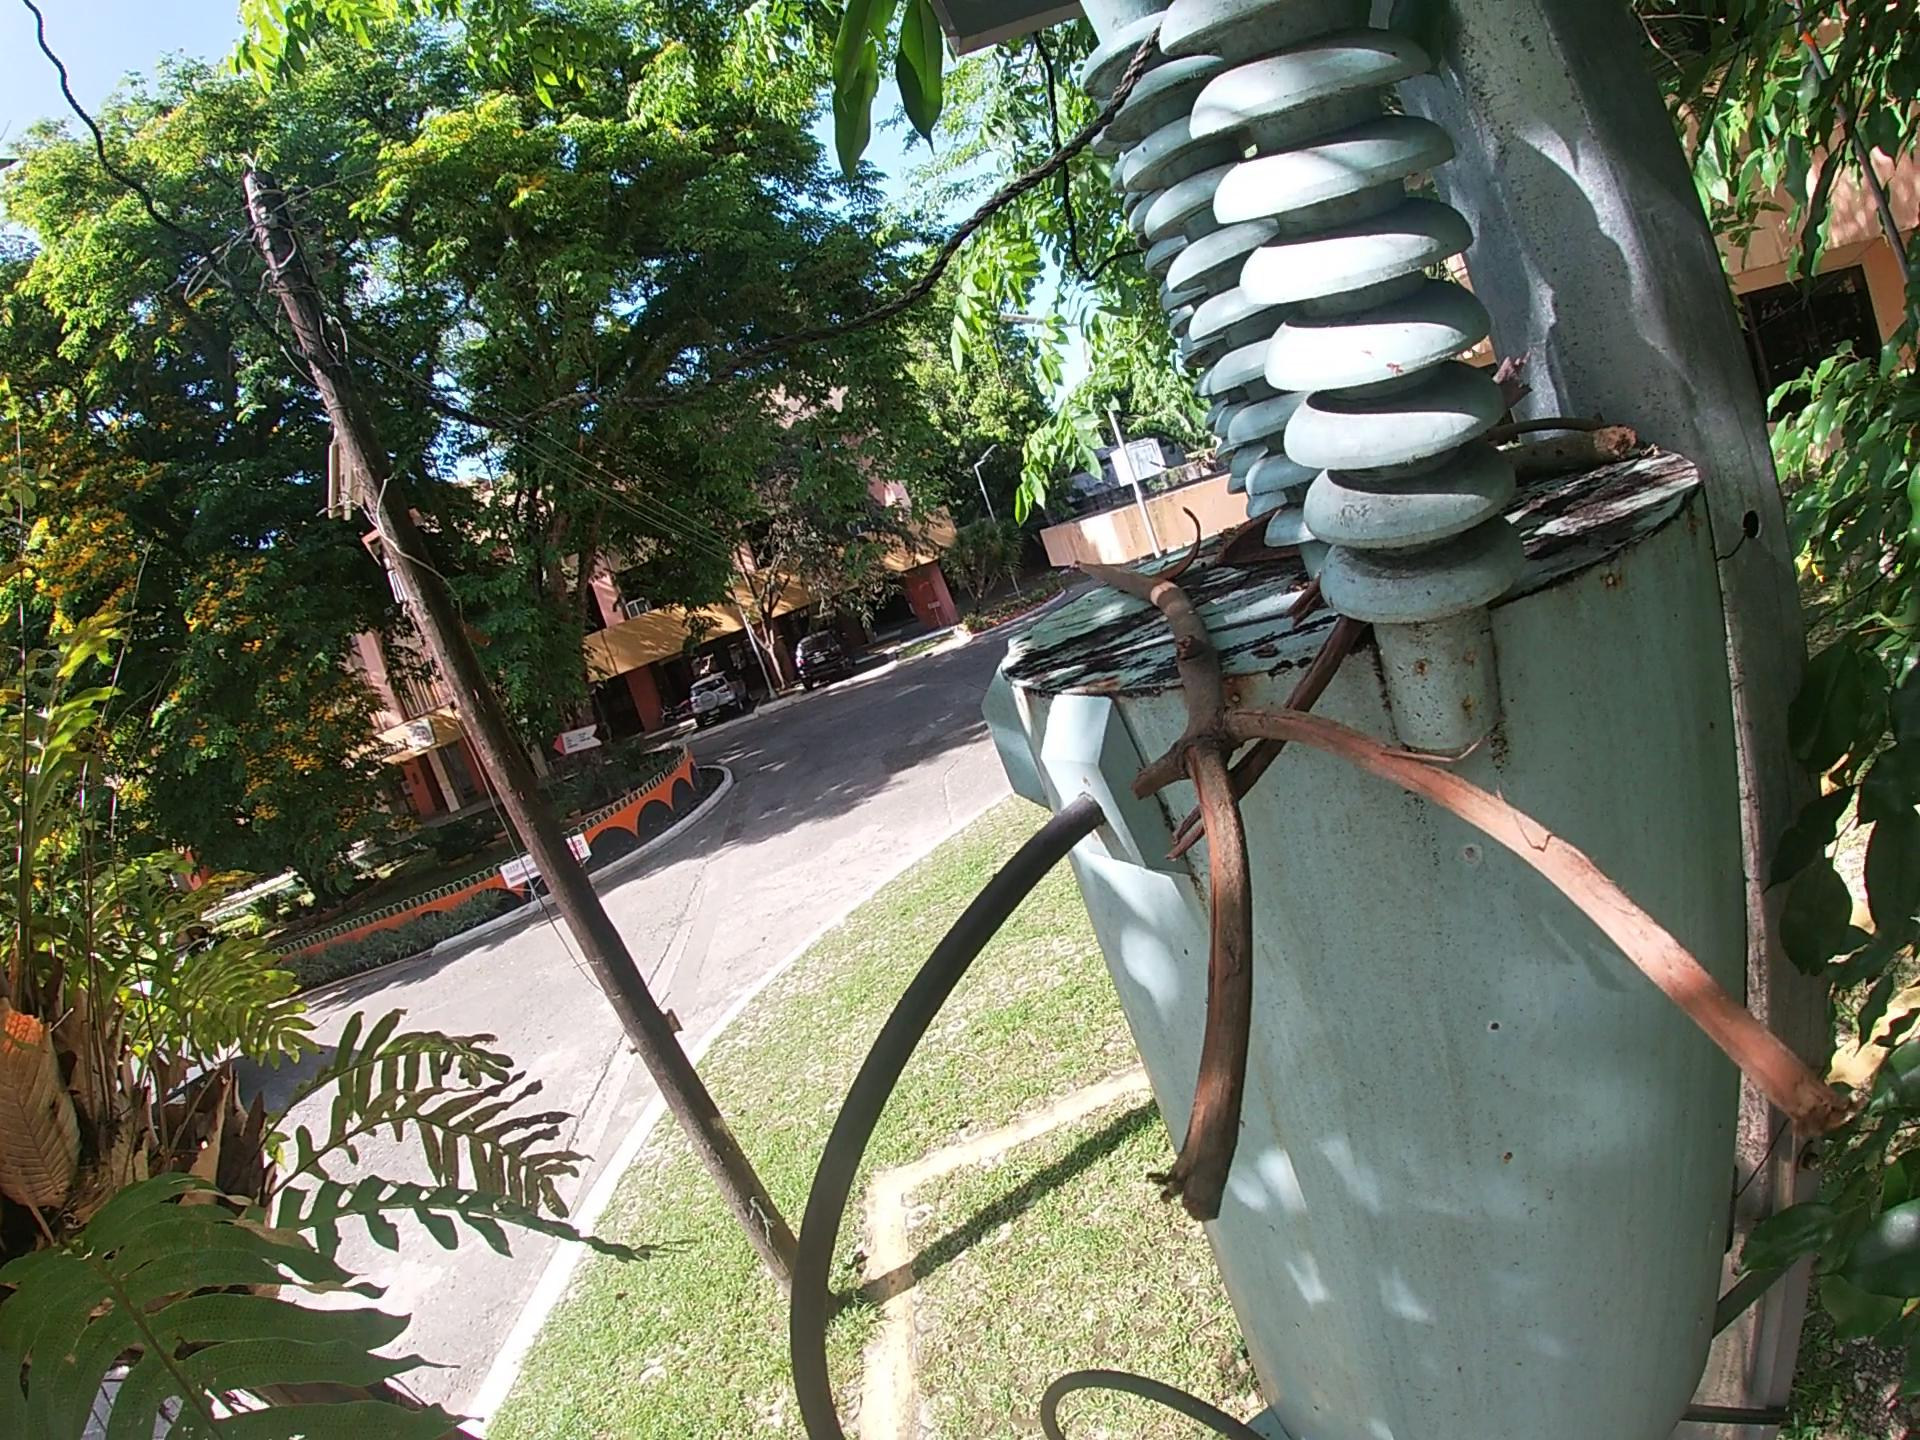mahogany fruit: (1208, 504, 1300, 578), (1155, 504, 1208, 582)
tree branch: (1066, 558, 1866, 1234), (1157, 569, 1386, 877), (1480, 404, 1658, 496)
